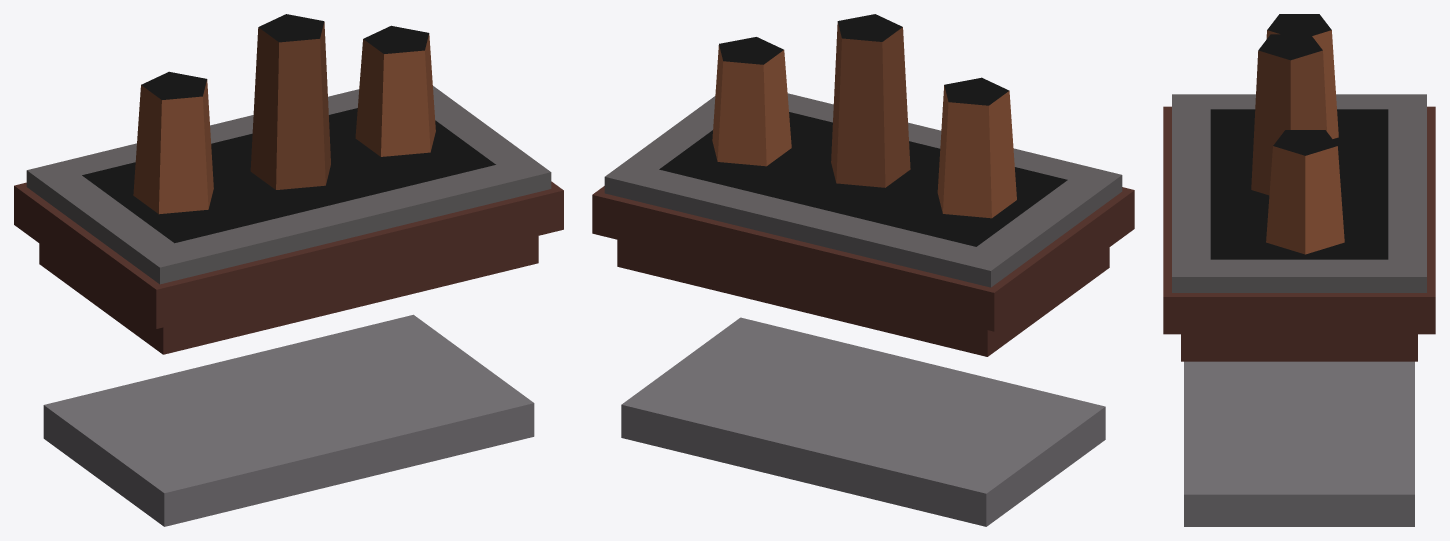
Rendered from chimney-crown-double.glb.
3 renders of one model, left to right at view 1: azimuth 30°, elevation 25°; view 2: azimuth 150°, elevation 25°; view 3: azimuth 270°, elevation 25°, orthographic. The views are drawn at different scales.
Visible parts, largest first — view 1: chimney-crown-double; view 2: chimney-crown-double; view 3: chimney-crown-double.
Boxes of the visible parts, <box> form: chimney-crown-double: <box>14,14,563,526</box>; chimney-crown-double: <box>592,14,1134,526</box>; chimney-crown-double: <box>1163,14,1435,526</box>.
Bounding box in the file's own units: 1.52 × 1.47 × 0.92.
